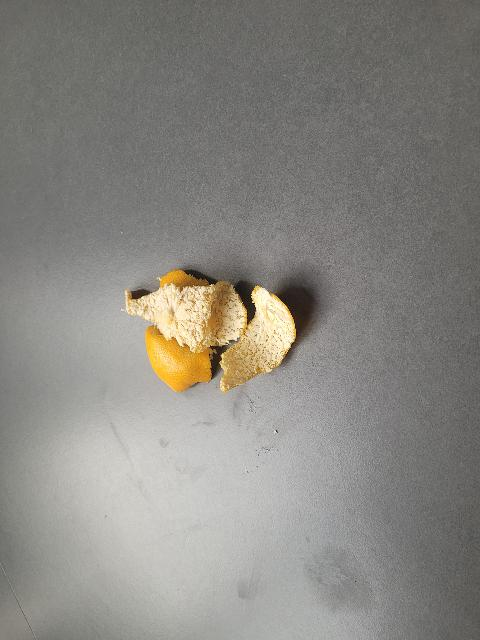Organik: (121, 259, 305, 404)
